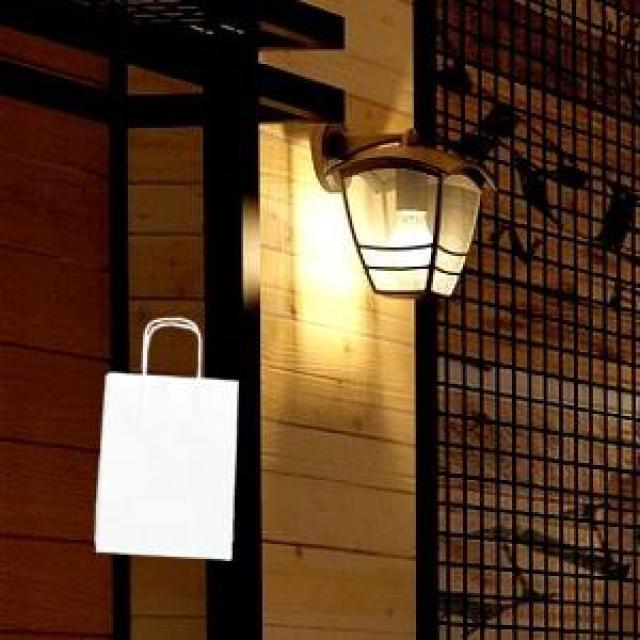paper: (92, 318, 235, 557)
